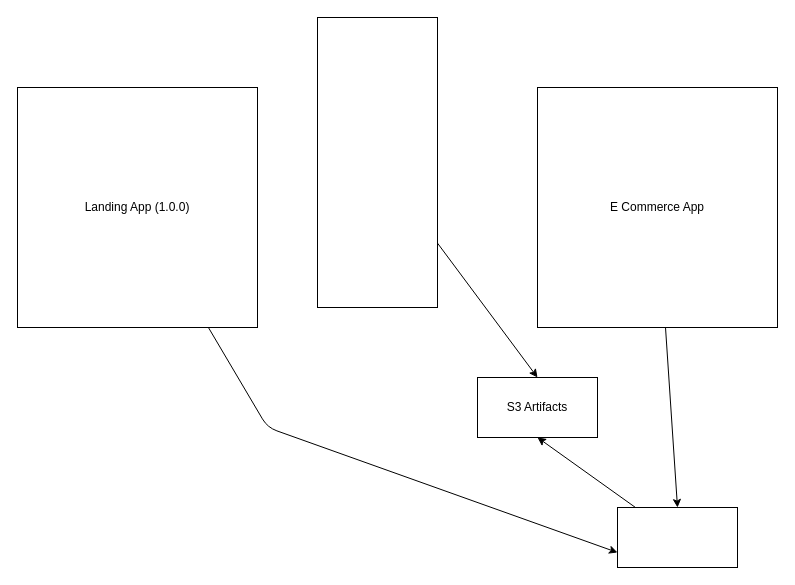
The diagram is 795 pixels wide and 585 high, and some of its shapes have lost their labels. The centre of each missing label's shape, as x and y in pixels:
"Components Project Heaer Footer" belongs at (377,162).
"Shim Library" belongs at (677,537).
